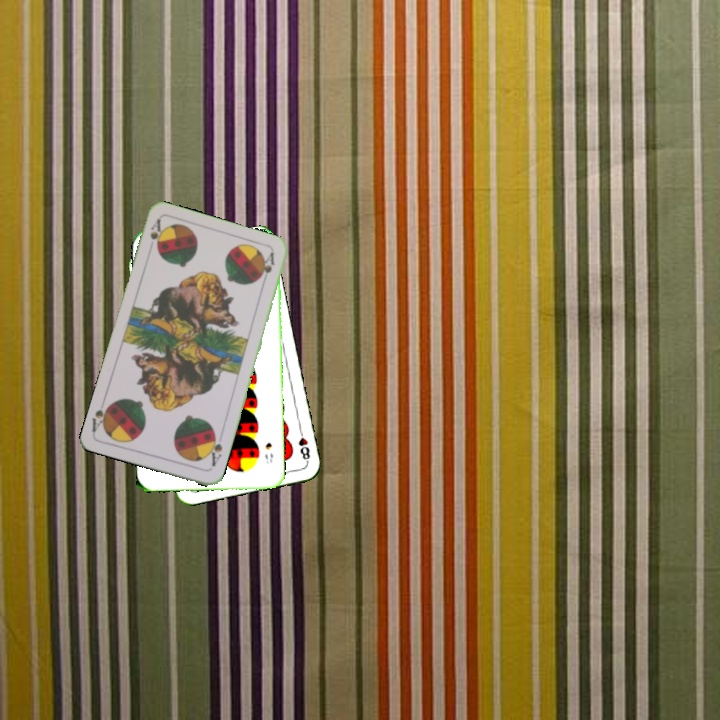H8: (294, 425, 312, 465)
S8: (261, 439, 275, 466)
SA: (203, 429, 225, 469), (146, 215, 166, 254)
